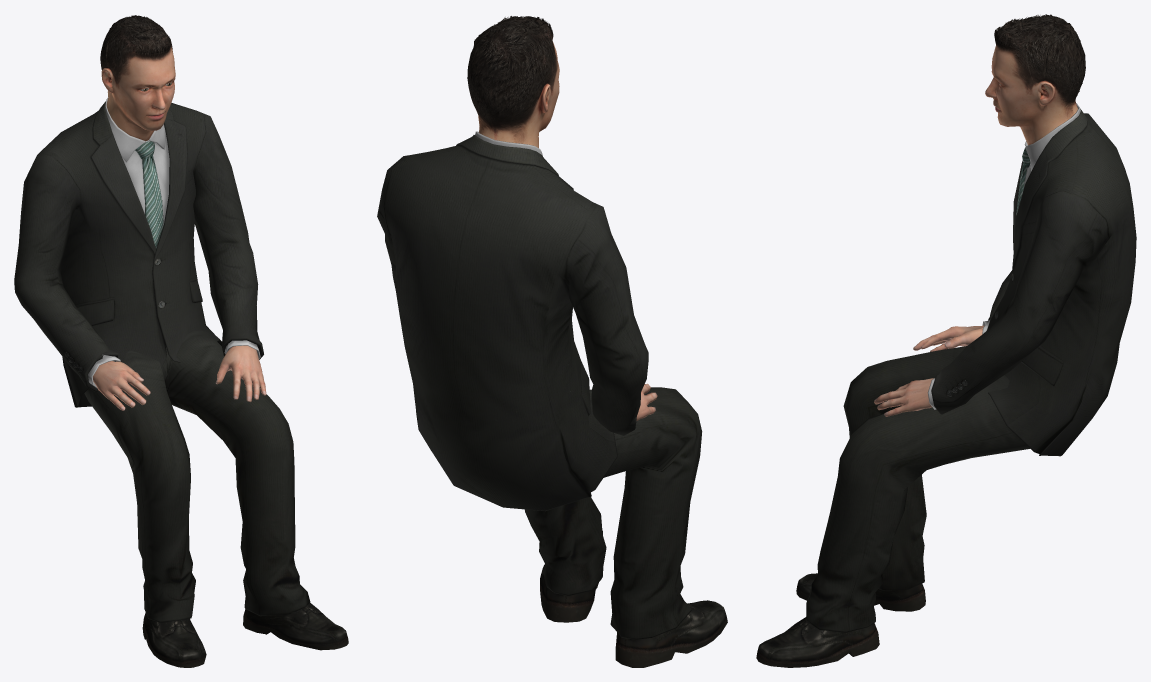
Rendered from guest-man.glb.
3 views of the same model, side by side, from view 1: azimuth 30°, elevation 25°; view 2: azimuth 150°, elevation 25°; view 3: azimuth 270°, elevation 25° (orthographic). The views are drawn at different scales.
Visible parts, largest first — view 1: m020_hipoly_81_bones_opacity; view 2: m020_hipoly_81_bones_opacity; view 3: m020_hipoly_81_bones_opacity.
Boxes of the visible parts, left/top/right/bottom form: m020_hipoly_81_bones_opacity: left=14, top=15, right=348, bottom=667; m020_hipoly_81_bones_opacity: left=377, top=16, right=727, bottom=667; m020_hipoly_81_bones_opacity: left=756, top=14, right=1136, bottom=667.
Bounding box in the file's own units: 62.06 × 150 × 84.9.
Materials: 3 (3 with a texture image).
